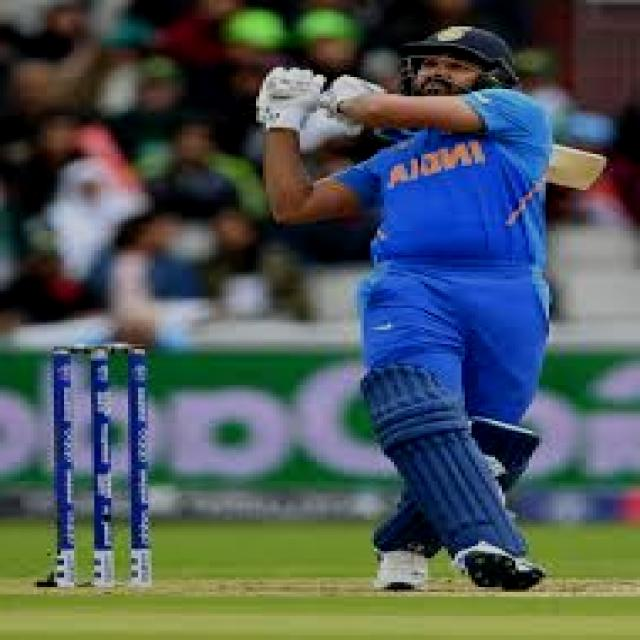toe: (576, 153, 614, 193)
